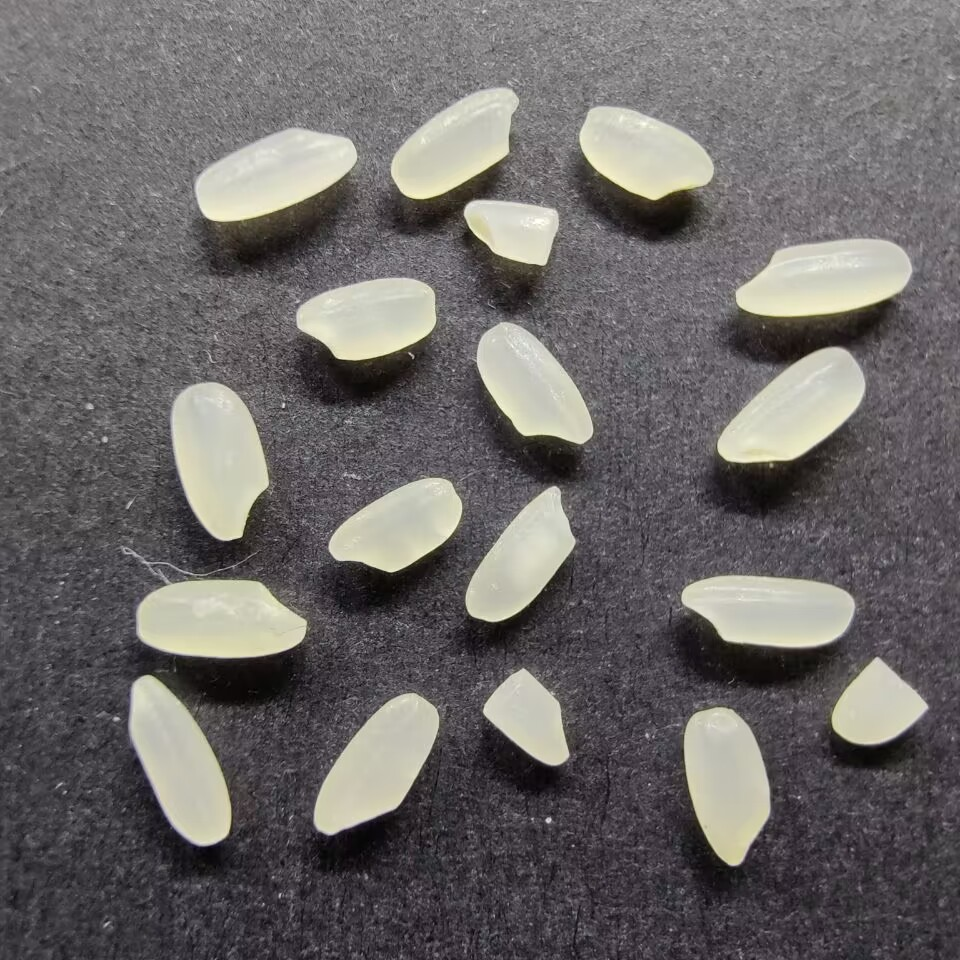broken: (480, 667, 571, 767), (830, 656, 928, 746), (462, 199, 562, 268)
rice: (310, 692, 440, 838), (124, 673, 233, 847), (716, 345, 865, 463), (169, 380, 270, 544), (193, 125, 358, 225), (463, 482, 577, 624), (475, 320, 593, 447), (390, 85, 518, 201), (682, 705, 773, 868), (733, 236, 912, 317), (134, 578, 309, 659), (325, 474, 464, 575), (576, 104, 716, 201), (678, 574, 856, 648), (295, 277, 437, 361)
